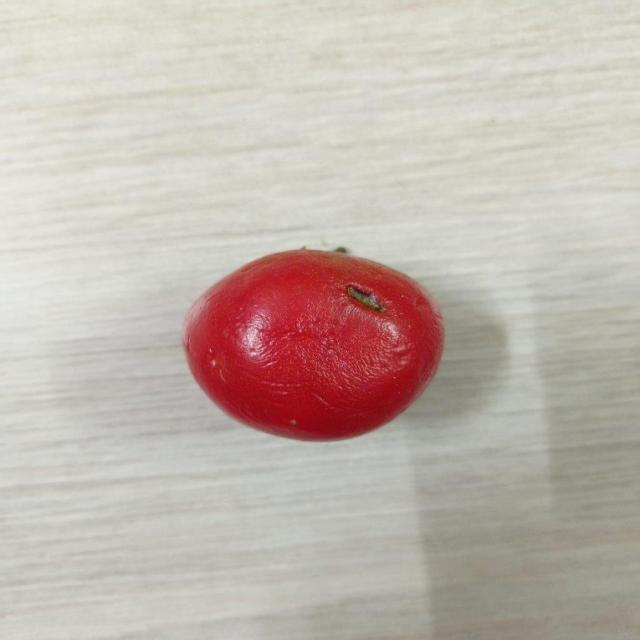Tomato: (176, 244, 449, 444)
